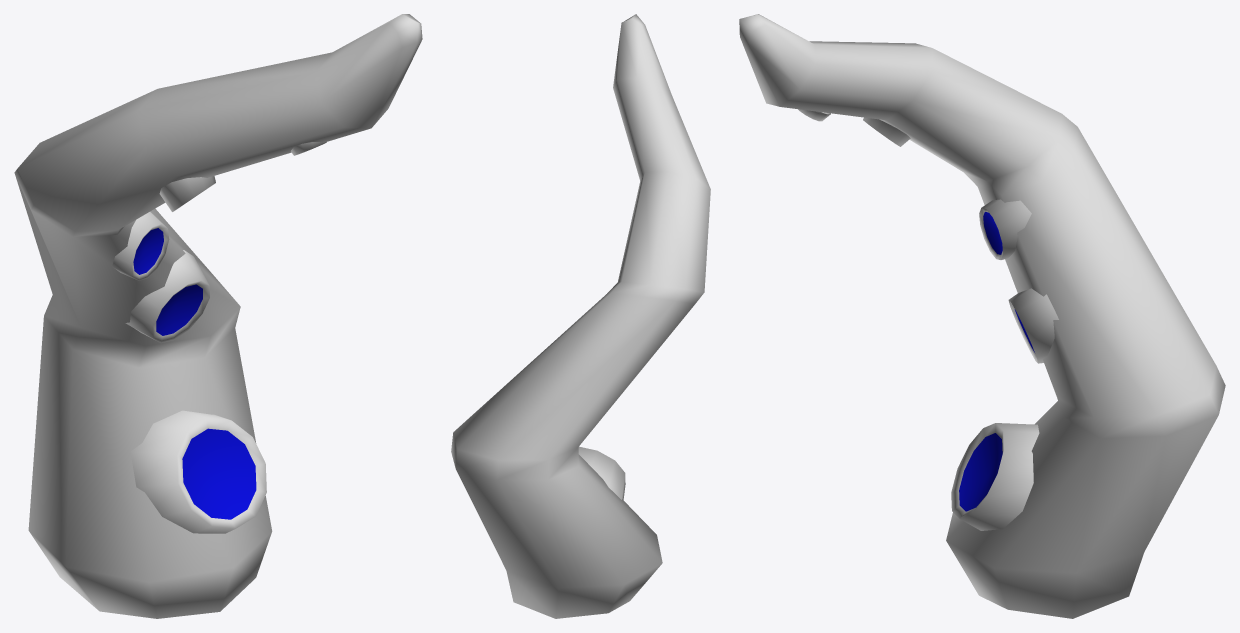
Rendered from SM_Tentacle_Small1.fbx.
3 renders of one model, left to right at view 1: azimuth 30°, elevation 25°; view 2: azimuth 150°, elevation 25°; view 3: azimuth 270°, elevation 25°, orthographic. The views are drawn at different scales.
Visible parts, largest first — view 1: Tentacle_Small1; view 2: Tentacle_Small1; view 3: Tentacle_Small1.
Part boxes in pixels (x1,y1,x2,y2): Tentacle_Small1: [14, 14, 422, 618]; Tentacle_Small1: [451, 14, 710, 618]; Tentacle_Small1: [739, 14, 1225, 618].
Bounding box in the file's own units: 85.03 × 212 × 149.
